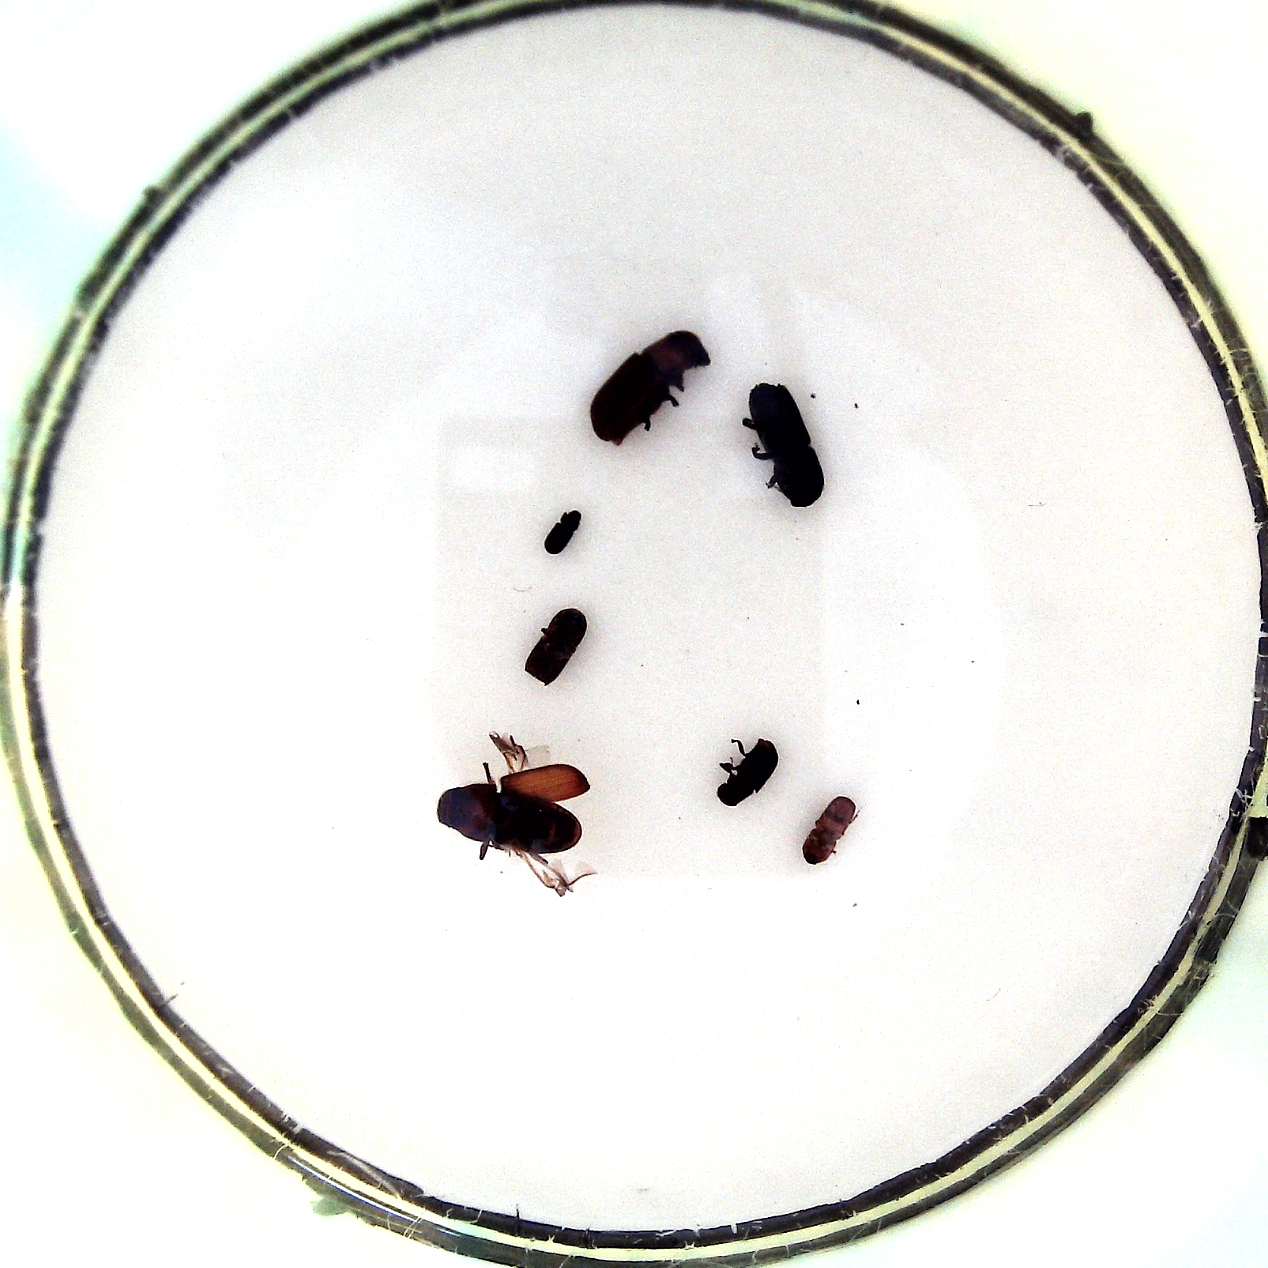Boerner: (739, 382, 823, 510)
Leconte: (431, 732, 592, 893), (584, 326, 716, 448)
Linnaeus: (516, 603, 590, 687)
acuminatus: (798, 793, 857, 870)
armandi: (716, 725, 784, 810)
coleoptera: (538, 503, 590, 562)
